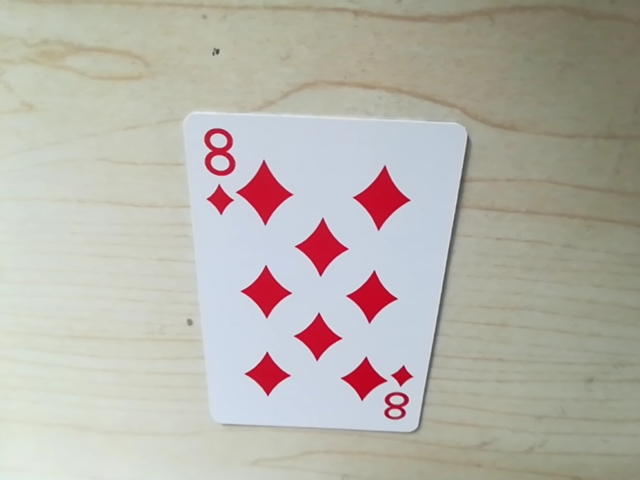fk 8: (195, 126, 246, 189), (376, 373, 416, 426)
